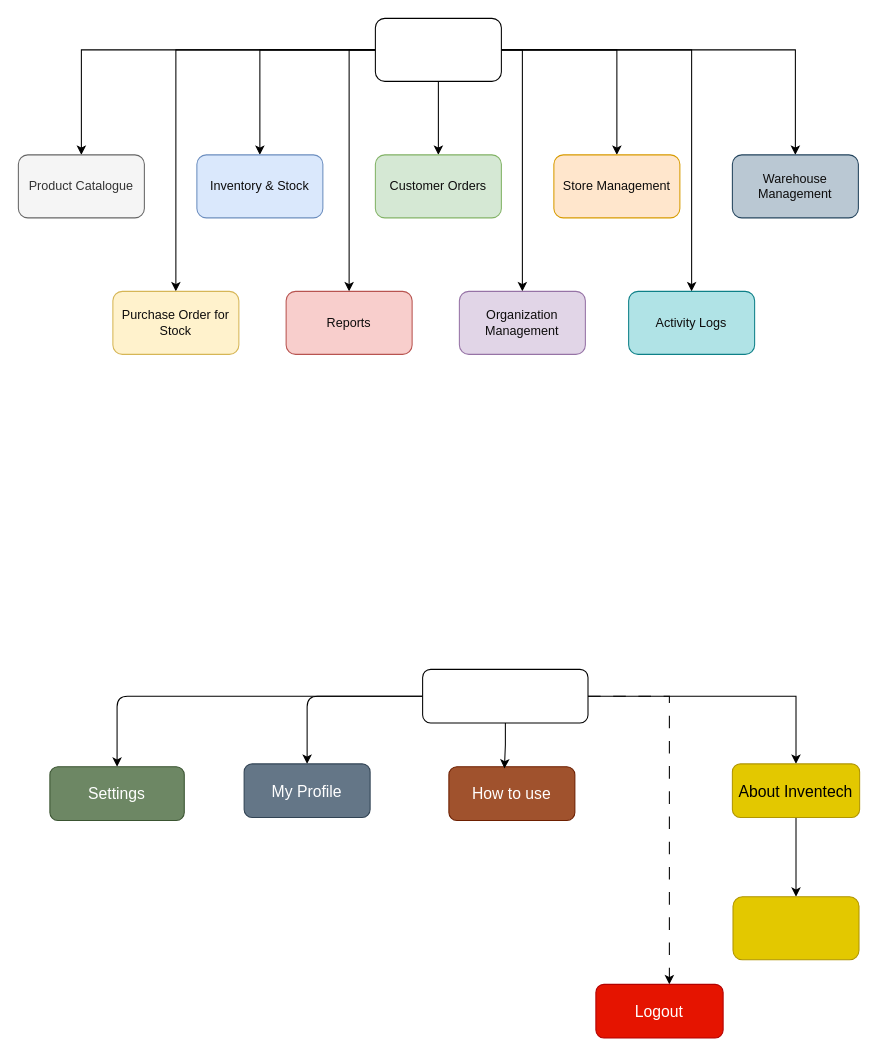
The diagram is 879 pixels wide and 1057 high, and some of its shapes have lost their labels. Here are the shapes that lost their labels. From the top down, the centre of each, then its label:
At (437,49): "The Curl Nation Inventory System".
At (505,695): "Miscellaneous Dashboards".
At (795,928): "Redirect to company website".
